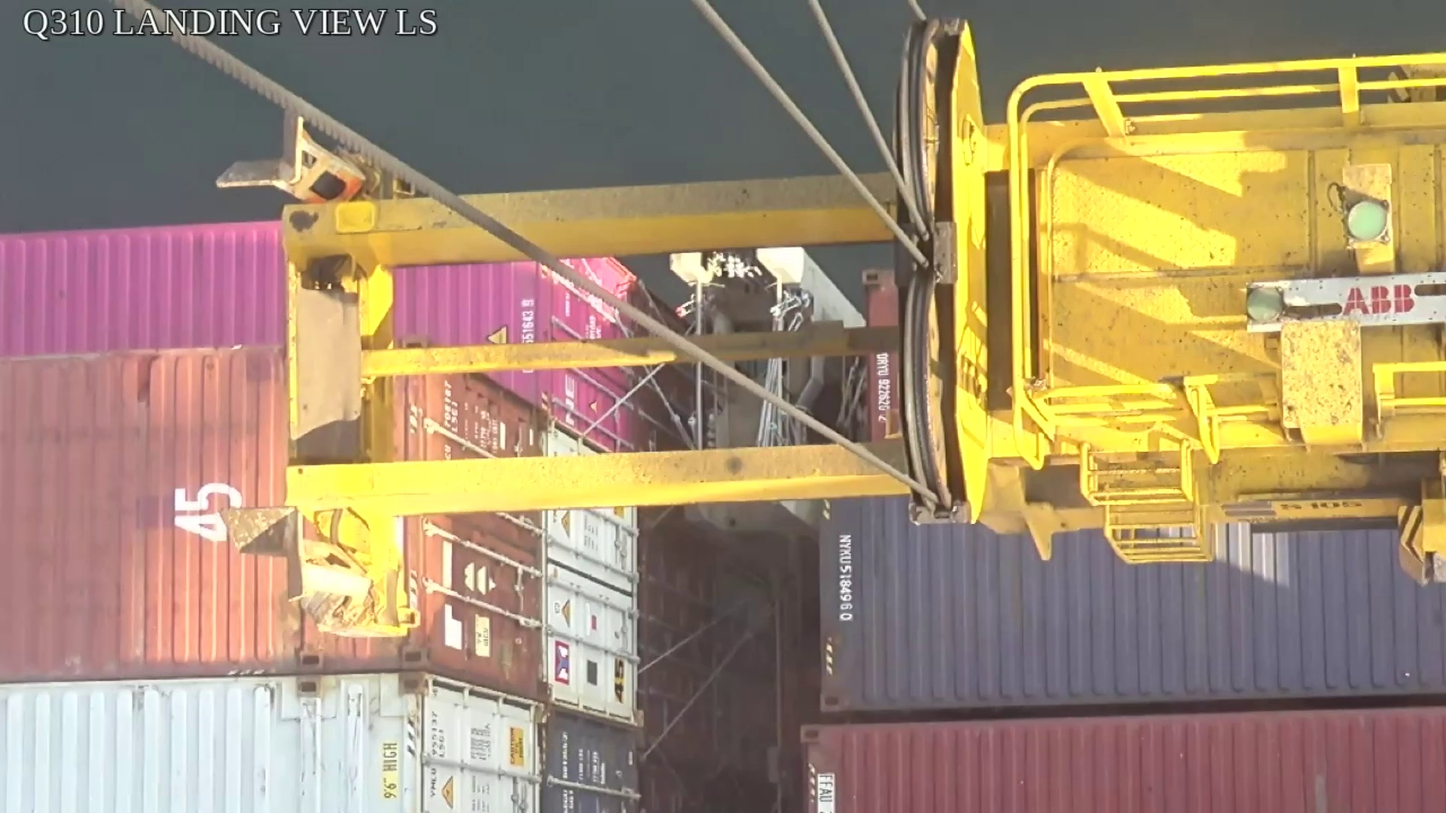aa: (887, 17, 992, 527)
